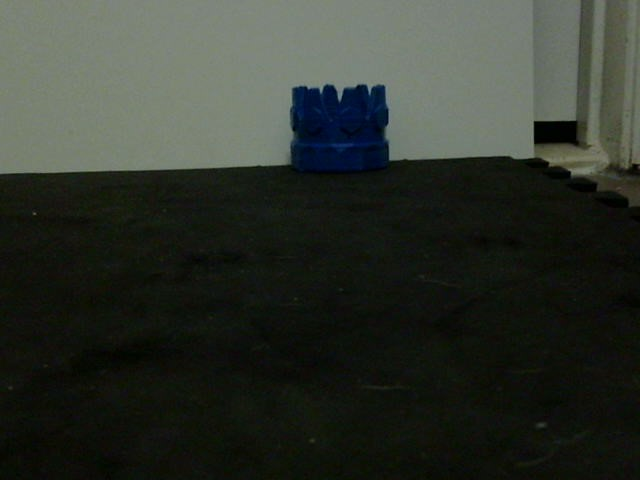crown: (288, 84, 391, 174)
